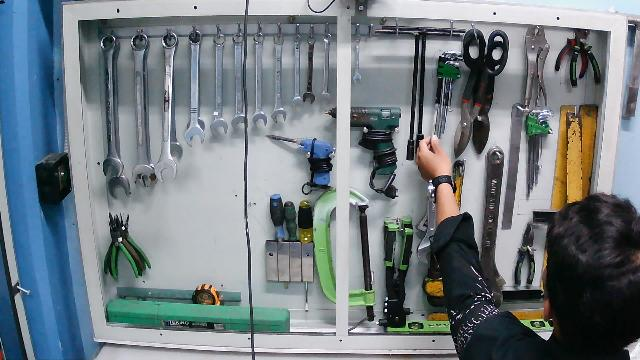kunci_l: (428, 45, 466, 155)
